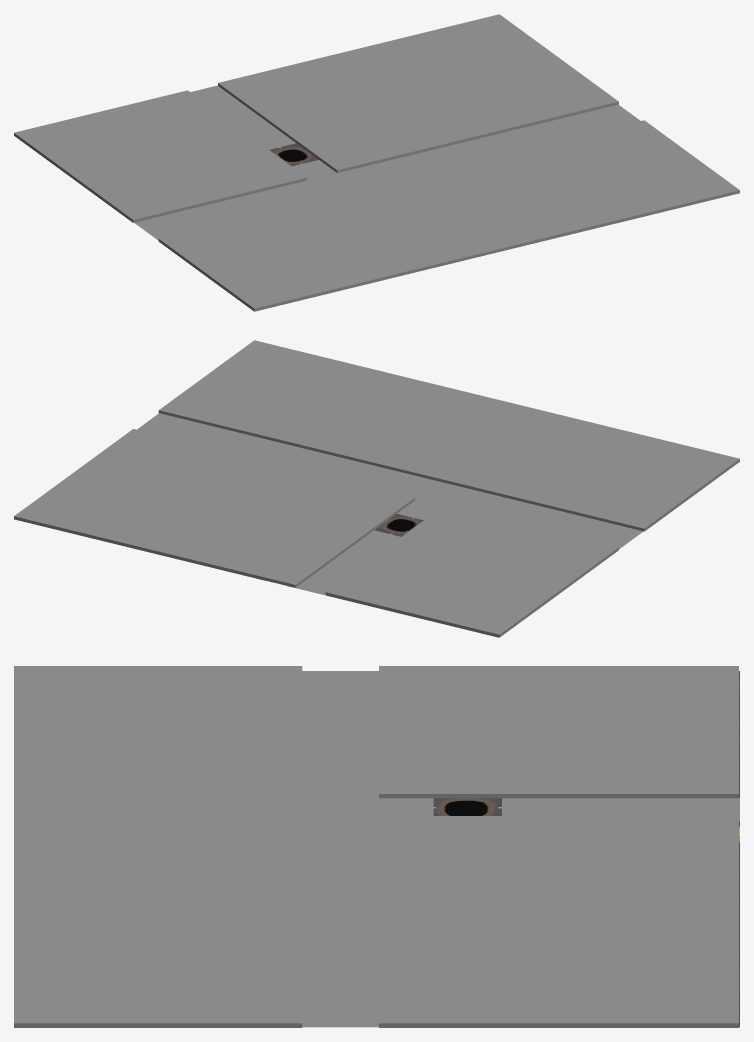
Rendered from ground.fbx.
3 renders of one model, top to bottom at view 1: azimuth 30°, elevation 25°; view 2: azimuth 150°, elevation 25°; view 3: azimuth 270°, elevation 25°, orthographic. The views are drawn at different scales.
Visible parts, largest first — view 1: Box004, road; view 2: Box004, road; view 3: Box004, road.
Boxes of the visible parts, box(x1,y1,x2,y2) form: Box004: box(14, 14, 739, 311); road: box(134, 85, 640, 240); Box004: box(14, 340, 739, 637); road: box(14, 413, 643, 637); Box004: box(14, 666, 738, 1027); road: box(302, 671, 739, 1027).
Size of the model in its own units: 6221 by 37.81 by 5344.
